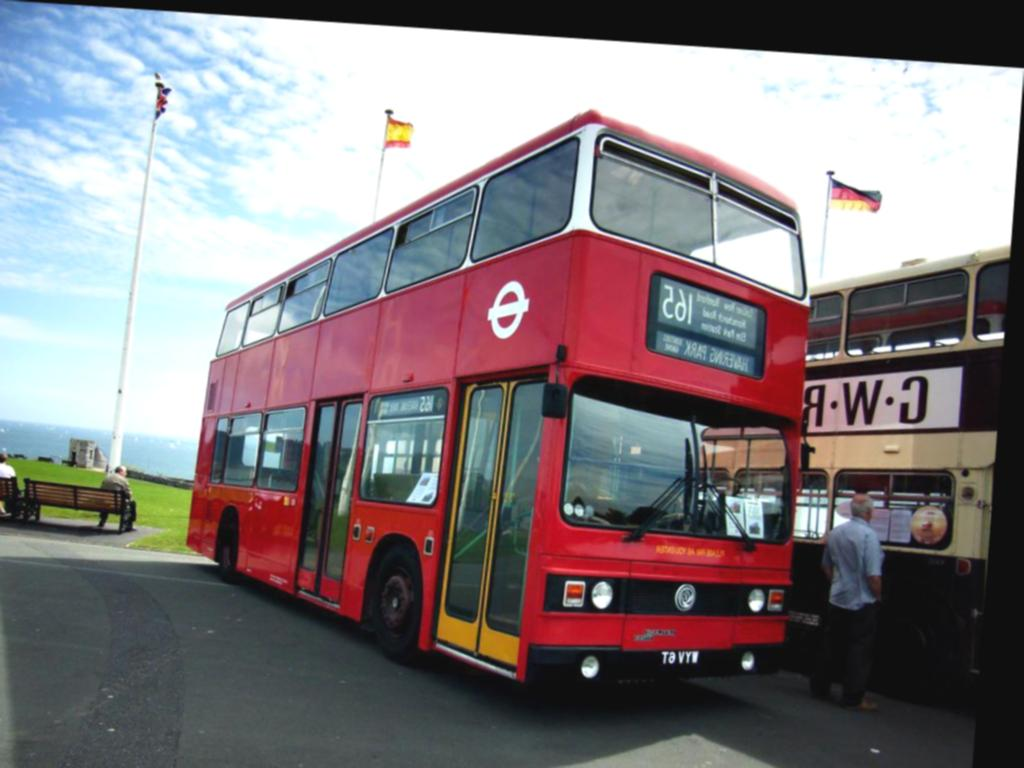License_Plate: (661, 648, 703, 667)
